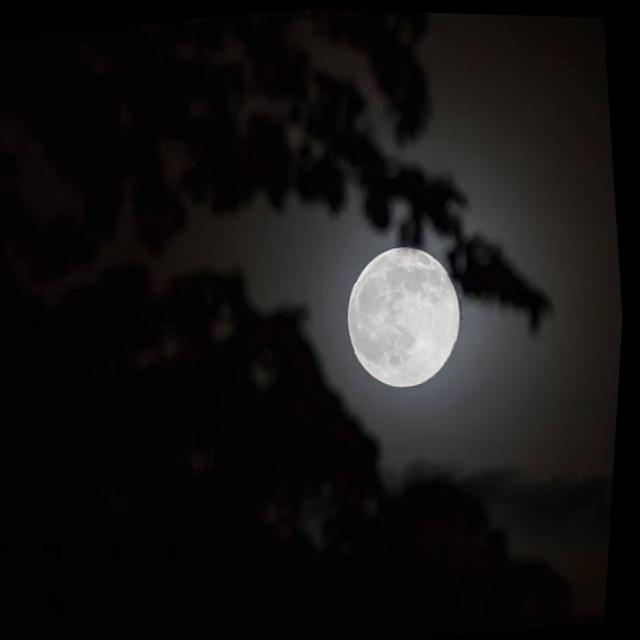moon: (337, 234, 476, 392)
